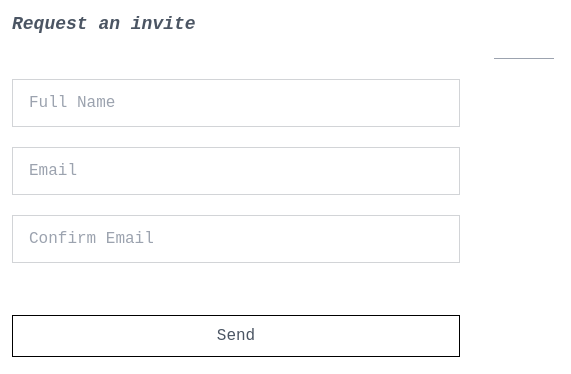
Scenario: SignupForm › should ensure that emails are valid format
Type "invalidEmail.com" into the field with placeholder "Email".
click(236, 171); type("invalidEmail.com")  # box [12, 147, 460, 195]
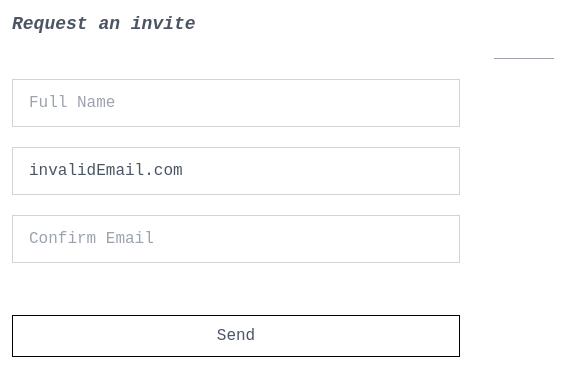
Type "invalidEmail.com" into the field with placeholder "Confirm Email".
click(236, 239); type("invalidEmail.com")  # box [12, 215, 460, 263]
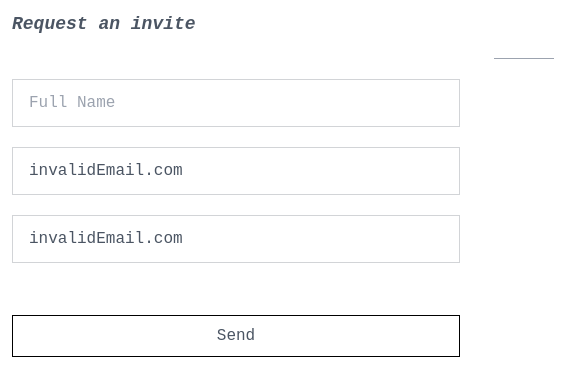
Click the button.
click(236, 336)  # box [12, 315, 460, 357]
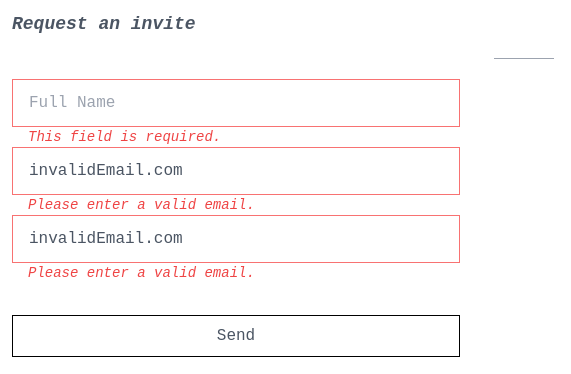
Now the element with test id "email-input" reads "Please enter a valid email.", box [28, 197, 255, 213]
Now the element with test id "confirmEmail-input" reads "Please enter a valid email.", box [28, 265, 255, 281]
